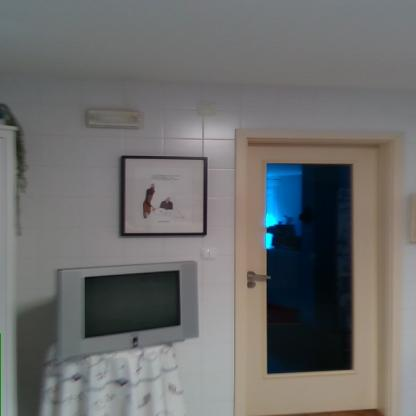closed: (224, 122, 407, 410)
